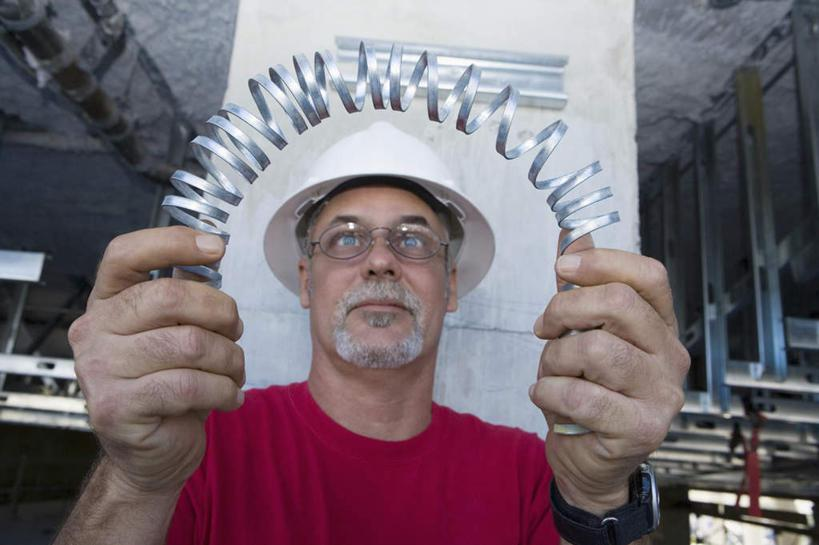helmet: (262, 120, 506, 299)
